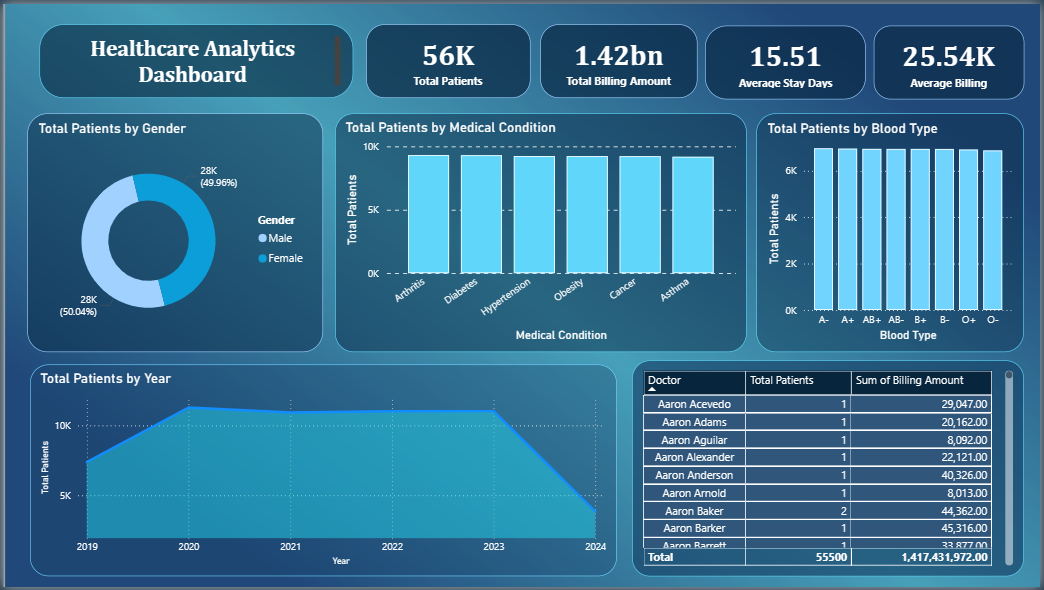

The page's visual inventory and layout, read from the dashboard file:
{"tool":"powerbi","page":{"name":"Page 1","canvas":[1280,720],"ordinal":0},"visuals":[{"type":"card","fields":{"Values":["healthcare_dataset.Total Patients"]},"box":[448.6,25.7,202.9,91.4],"z":0},{"type":"card","fields":{"Values":["healthcare_dataset.Total Billing Amount"]},"box":[662.9,25.7,194.3,91.4],"z":1000},{"type":"card","fields":{"Values":["healthcare_dataset.Average Stay Days"]},"box":[867.1,27.1,198.6,91.4],"z":2000},{"type":"card","fields":{"Values":["healthcare_dataset.Average Billing"]},"box":[1075.7,27.1,185.7,91.4],"z":3000},{"type":"donutChart","fields":{"Category":["healthcare_dataset.Gender"],"Y":["healthcare_dataset.Total Patients"]},"box":[30,135,365,295],"z":4000},{"type":"clusteredColumnChart","fields":{"Category":["healthcare_dataset.Medical Condition"],"Y":["healthcare_dataset.Total Patients"]},"box":[410,135,508.3,295],"z":5000},{"type":"columnChart","fields":{"Category":["healthcare_dataset.Blood Type"],"Y":["healthcare_dataset.Total Patients"]},"box":[930,135,330,295],"z":6000},{"type":"areaChart","fields":{"Category":["healthcare_dataset.Date of Admission.Variation.Date Hierarchy.Year","healthcare_dataset.Date of Admission.Variation.Date Hierarchy.Quarter","healthcare_dataset.Date of Admission.Variation.Date Hierarchy.Month","healthcare_dataset.Date of Admission.Variation.Date Hierarchy.Day"],"Y":["healthcare_dataset.Total Patients"]},"box":[32.9,445.7,724.3,261.4],"z":7000},{"type":"tableEx","fields":{"Values":["healthcare_dataset.Doctor","healthcare_dataset.Total Patients","healthcare_dataset.Billing Amount"]},"box":[776.7,440,483.3,266.7],"z":8000},{"type":"textbox","box":[44.3,25.7,387.1,91.4],"z":9000}]}

Visuals, with their boxes in screenshot pixels (x1, y1, x2, y2), scaled from the page's 1280x720 canvas onto the 1044x590 screenshot:
card - healthcare_dataset.Total Patients: detection(366, 21, 531, 96)
card - healthcare_dataset.Total Billing Amount: detection(541, 21, 699, 96)
card - healthcare_dataset.Average Stay Days: detection(707, 22, 869, 97)
card - healthcare_dataset.Average Billing: detection(877, 22, 1029, 97)
donutChart - healthcare_dataset.Gender x healthcare_dataset.Total Patients: detection(24, 111, 322, 352)
clusteredColumnChart - healthcare_dataset.Medical Condition x healthcare_dataset.Total Patients: detection(334, 111, 749, 352)
columnChart - healthcare_dataset.Blood Type x healthcare_dataset.Total Patients: detection(759, 111, 1028, 352)
areaChart - healthcare_dataset.Date of Admission.Variation.Date Hierarchy.Year x healthcare_dataset.Date of Admission.Variation.Date Hierarchy.Quarter: detection(27, 365, 618, 579)
tableEx - healthcare_dataset.Doctor x healthcare_dataset.Total Patients: detection(633, 361, 1028, 579)
textbox: detection(36, 21, 352, 96)
